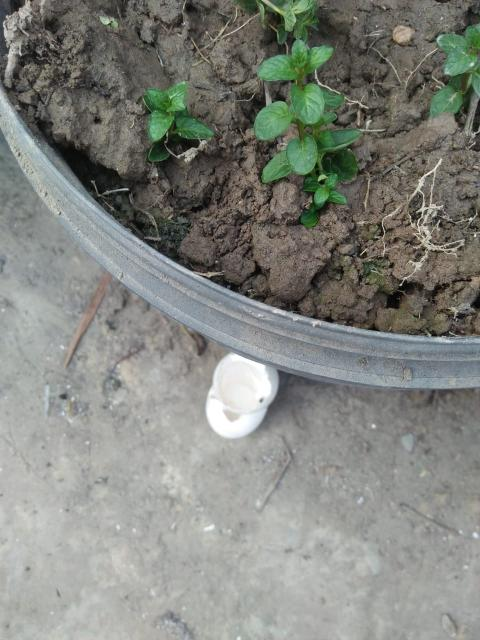Roto: (212, 351, 279, 407), (206, 389, 269, 439)
